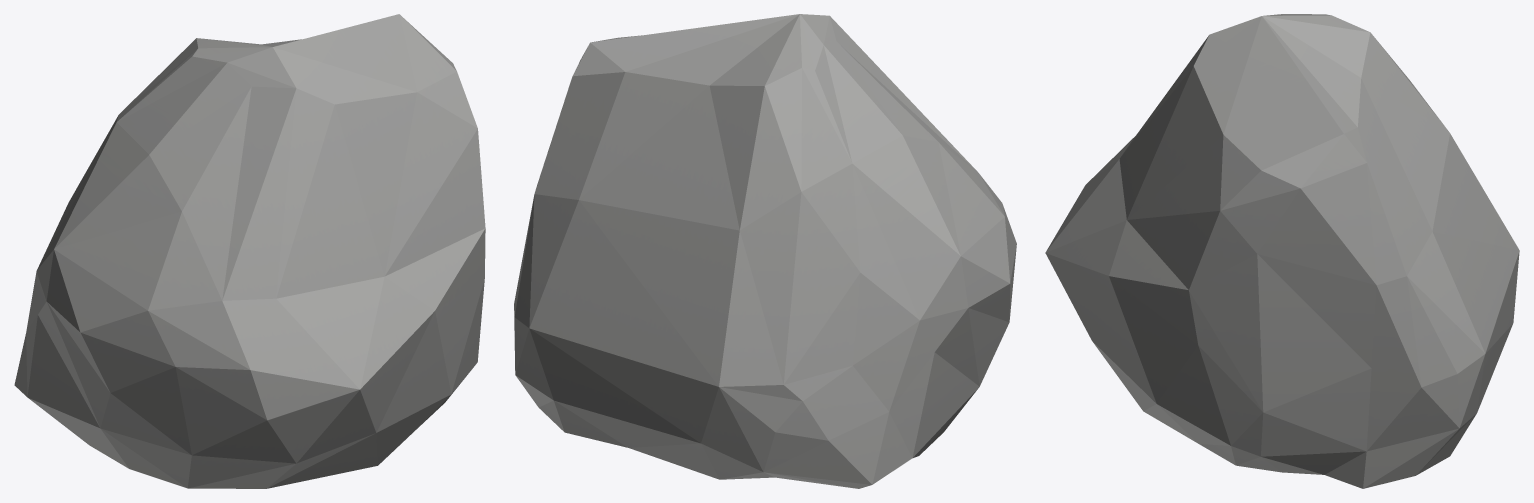
The model's file is Cavern_RockLrg-02.fbx.
3 views of the same model, side by side, from view 1: azimuth 30°, elevation 25°; view 2: azimuth 150°, elevation 25°; view 3: azimuth 270°, elevation 25° (orthographic). The views are drawn at different scales.
Parts seen in each view (by area): view 1: Cavern_RockLrg-02; view 2: Cavern_RockLrg-02; view 3: Cavern_RockLrg-02.
Part boxes in pixels (x1,y1,x2,y2): Cavern_RockLrg-02: [14, 14, 485, 488]; Cavern_RockLrg-02: [514, 14, 1016, 488]; Cavern_RockLrg-02: [1045, 14, 1519, 488].
Bounding box in the file's own units: 511 × 486 × 529.
1 material, 1 textured.
